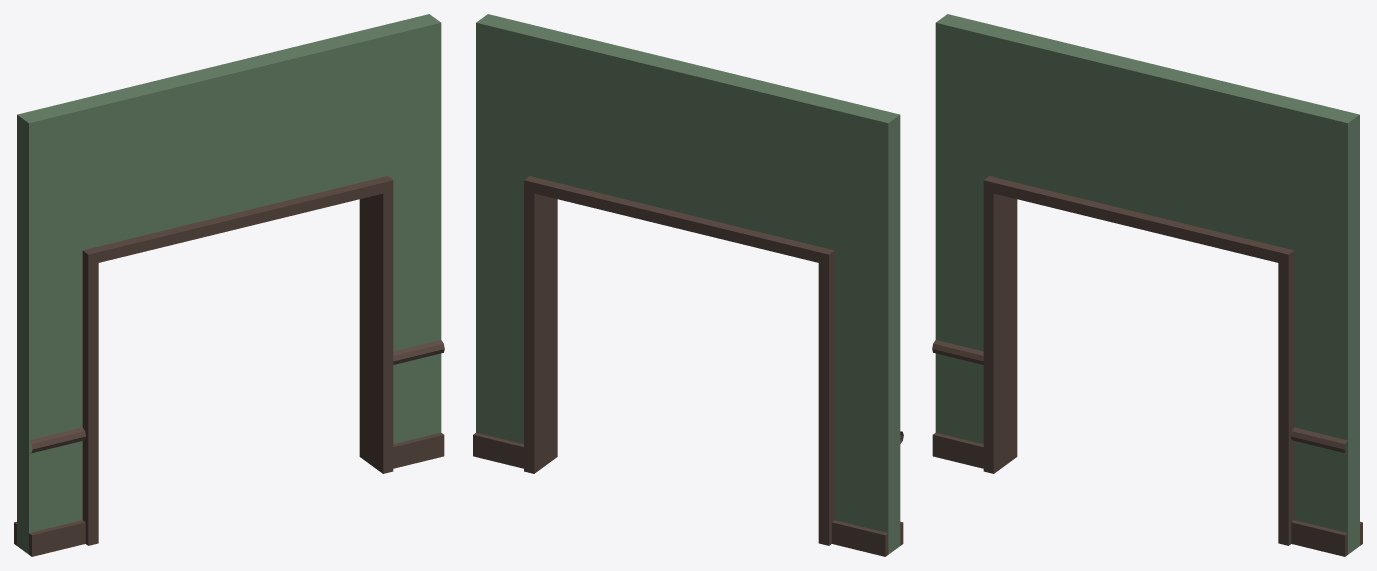
The model's file is h_wall_3_doorFrame_4_3.fbx.
3 views of the same model, side by side, from view 1: azimuth 30°, elevation 25°; view 2: azimuth 150°, elevation 25°; view 3: azimuth 330°, elevation 25° (orthographic).
Parts seen in each view (by area): view 1: Cube; view 2: Cube; view 3: Cube.
Part boxes in pixels (x1,y1,x2,y2): Cube: (14,14,444,556); Cube: (473,14,903,556); Cube: (932,14,1362,556).
Bounding box in the file's own units: 400 × 400 × 39.37.
